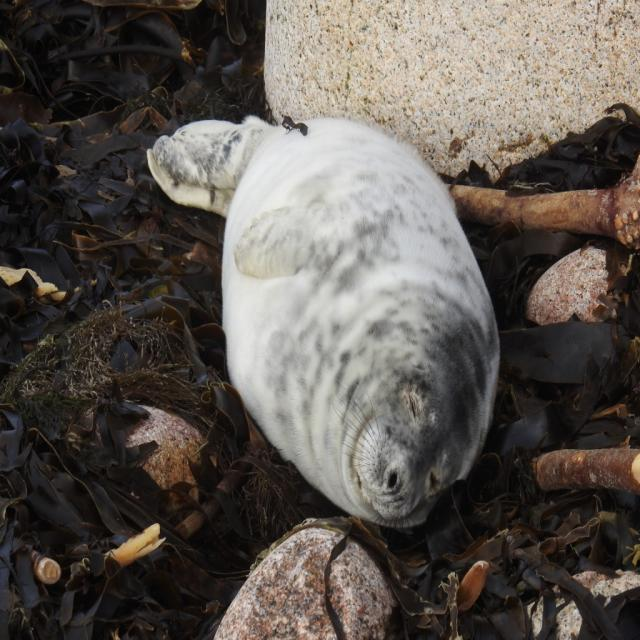WaterDog: (143, 92, 508, 530)
